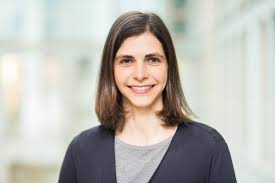bare: (113, 68, 165, 108)
